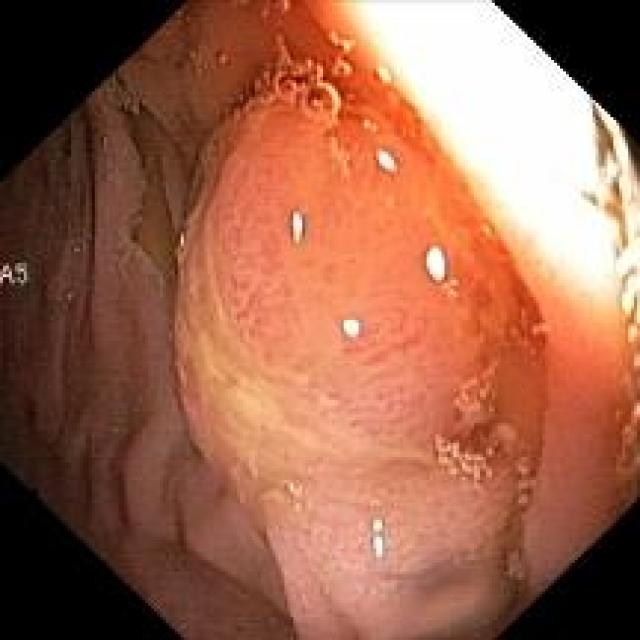Polyps: (175, 29, 547, 640)
